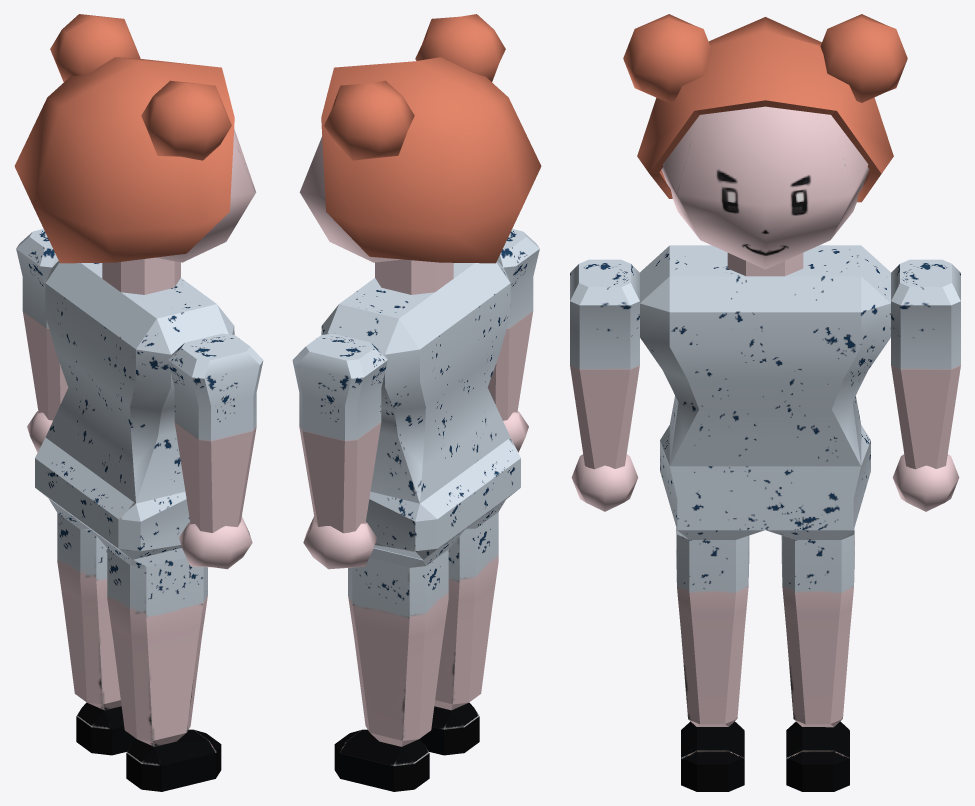
File: Gameweek_girl_low_01.fbx
The picture shows the model from 3 angles, left to right: view 1: azimuth 30°, elevation 25°; view 2: azimuth 150°, elevation 25°; view 3: azimuth 270°, elevation 25°; orthographic projection. The views are drawn at different scales.
Visible parts, largest first — view 1: MOD_0_97x71x67_character; view 2: MOD_0_97x71x67_character; view 3: MOD_0_97x71x67_character.
Part boxes in pixels (x1=…): MOD_0_97x71x67_character: x1=14, y1=14, x2=263, y2=791; MOD_0_97x71x67_character: x1=292, y1=14, x2=541, y2=791; MOD_0_97x71x67_character: x1=570, y1=14, x2=960, y2=791.
Size of the model in its own units: 28.1 by 92.15 by 43.64.
Materials: 1 (1 with a texture image).
